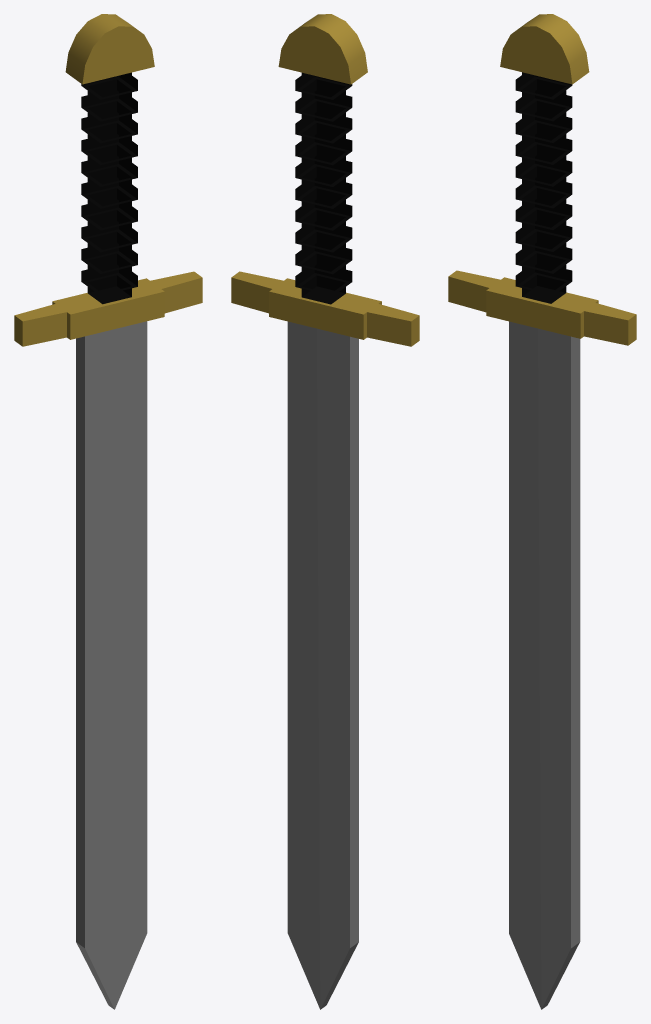
File: espada.obj
3 renders of one model, left to right at view 1: azimuth 30°, elevation 25°; view 2: azimuth 150°, elevation 25°; view 3: azimuth 330°, elevation 25°, orthographic.
Visible parts, largest first — view 1: sword.001; view 2: sword.001; view 3: sword.001.
Boxes of the visible parts, x1,y1,x2,y2 form: sword.001: (14,14,202,1009); sword.001: (231,14,419,1009); sword.001: (448,14,636,1009).
Bounding box in the file's own units: 0.535 × 2.81 × 0.0993.
